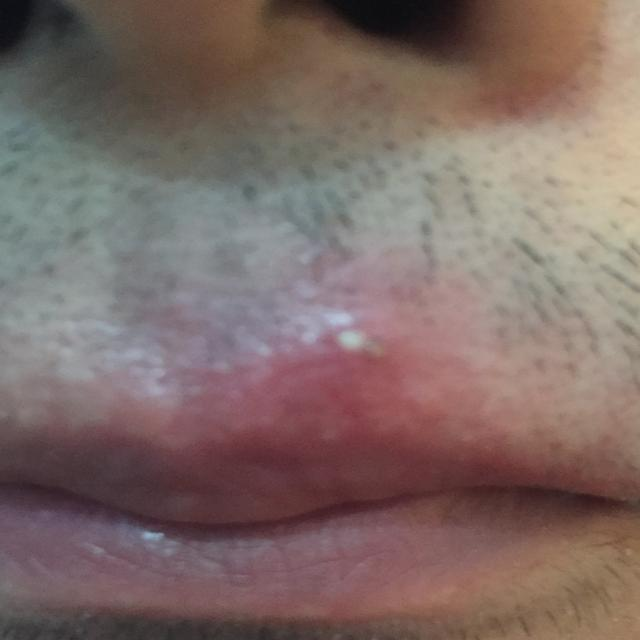Pimples: (306, 296, 418, 377)
